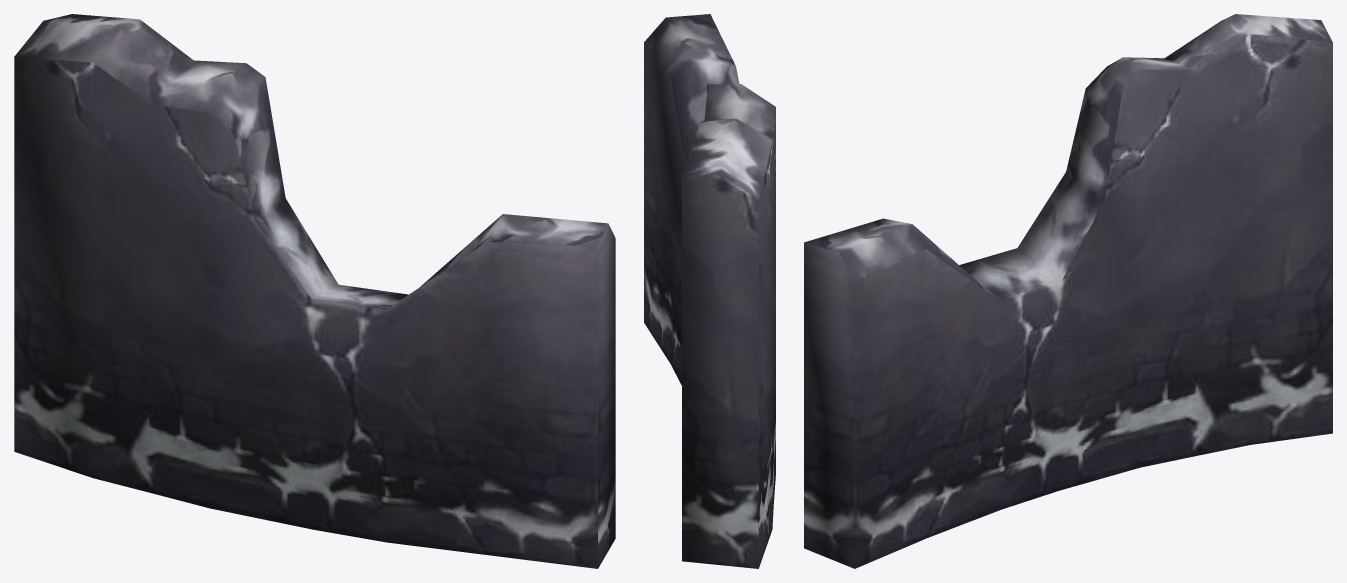
The model's file is pvp_poqiang.FBX.
3 views of the same model, side by side, from view 1: azimuth 30°, elevation 25°; view 2: azimuth 150°, elevation 25°; view 3: azimuth 270°, elevation 25° (orthographic). The views are drawn at different scales.
Visible parts, largest first — view 1: pvp_poqiang; view 2: pvp_poqiang; view 3: pvp_poqiang.
Boxes of the visible parts, box(x1,y1,x2,y2) form: pvp_poqiang: box(14, 14, 615, 568); pvp_poqiang: box(644, 14, 775, 568); pvp_poqiang: box(804, 14, 1332, 568).
Bounding box in the file's own units: 126 × 168 × 146.
